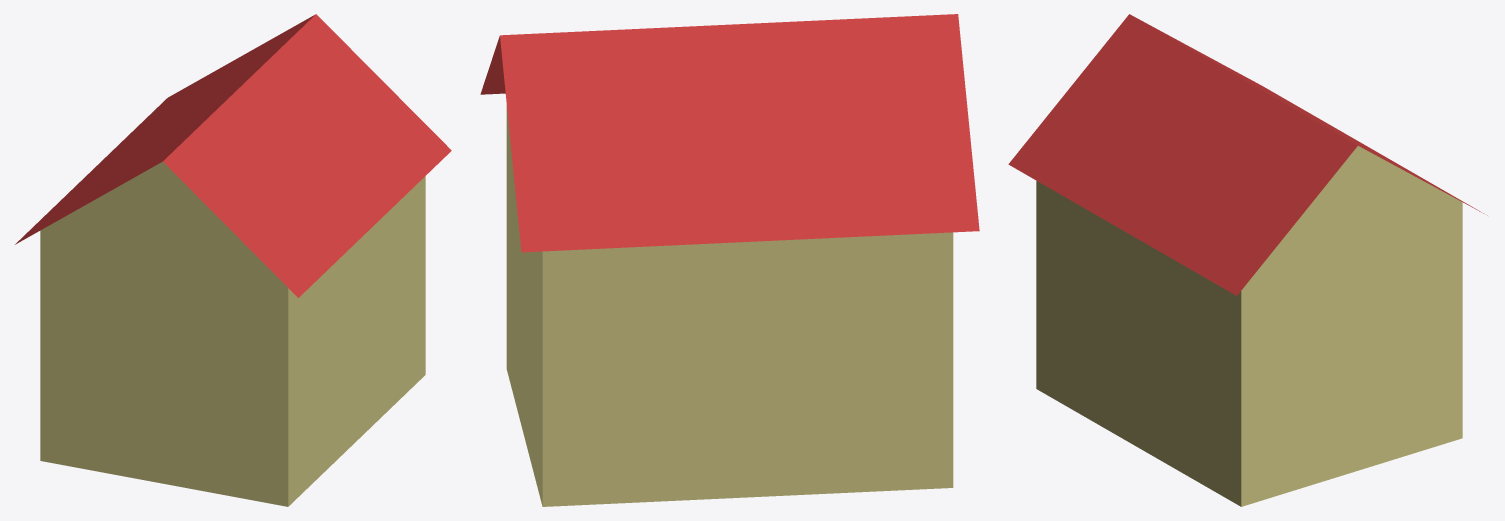
3 views of the same model, side by side, from view 1: azimuth 30°, elevation 25°; view 2: azimuth 150°, elevation 25°; view 3: azimuth 270°, elevation 25° (orthographic). The views are drawn at different scales.
Size of the model in its own units: 12.38 by 12 by 9.21.
